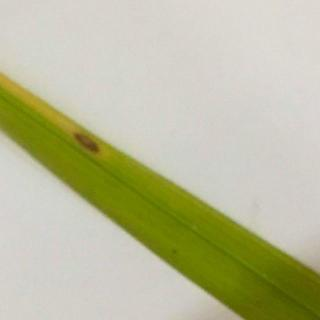Blast: (64, 116, 118, 173)
